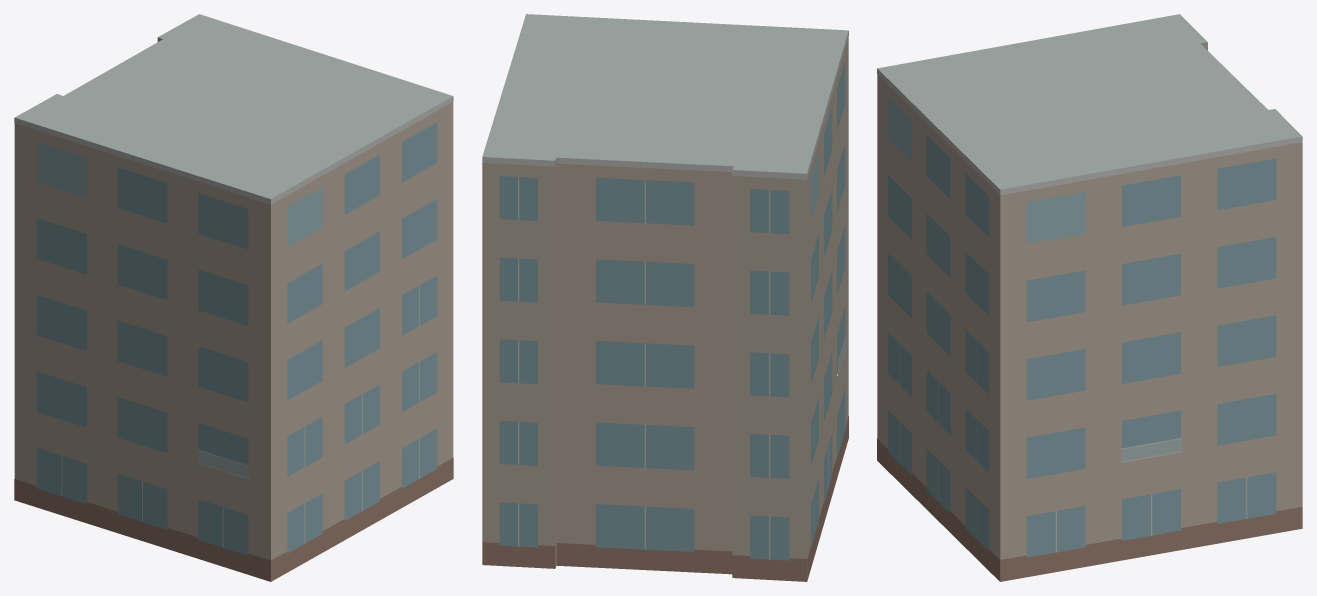
The model's file is survey-upis-32854654.glb.
3 views of the same model, side by side, from view 1: azimuth 30°, elevation 25°; view 2: azimuth 150°, elevation 25°; view 3: azimuth 270°, elevation 25° (orthographic). The views are drawn at different scales.
Visible parts, largest first — view 1: survey-upis-32854654.tmp; view 2: survey-upis-32854654.tmp; view 3: survey-upis-32854654.tmp.
Boxes of the visible parts, bbox=[...] form: survey-upis-32854654.tmp: bbox=[14, 14, 453, 581]; survey-upis-32854654.tmp: bbox=[482, 14, 848, 581]; survey-upis-32854654.tmp: bbox=[877, 14, 1302, 581].
Size of the model in its own units: 16.05 by 16.7 by 16.43.
